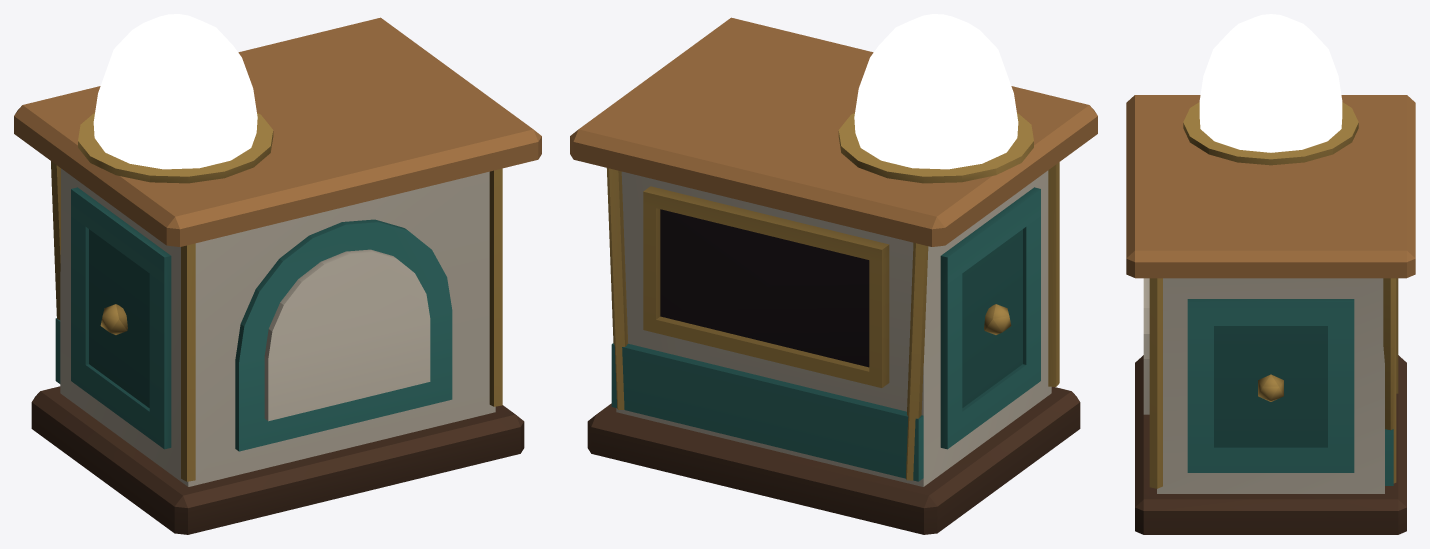
File: quiz_pult.glb
3 views of the same model, side by side, from view 1: azimuth 30°, elevation 25°; view 2: azimuth 150°, elevation 25°; view 3: azimuth 270°, elevation 25° (orthographic). The views are drawn at different scales.
Parts seen in each view (by area): view 1: pult, pult_lamp; view 2: pult, pult_lamp; view 3: pult, pult_lamp.
Boxes of the visible parts, x1=… form: pult: x1=14, y1=17, x2=541, y2=534; pult_lamp: x1=93, y1=14, x2=257, y2=169; pult: x1=570, y1=17, x2=1097, y2=534; pult_lamp: x1=854, y1=14, x2=1018, y2=169; pult: x1=1126, y1=95, x2=1415, y2=534; pult_lamp: x1=1199, y1=14, x2=1342, y2=152.
Bounding box in the file's own units: 0.88 × 0.995 × 0.66.
